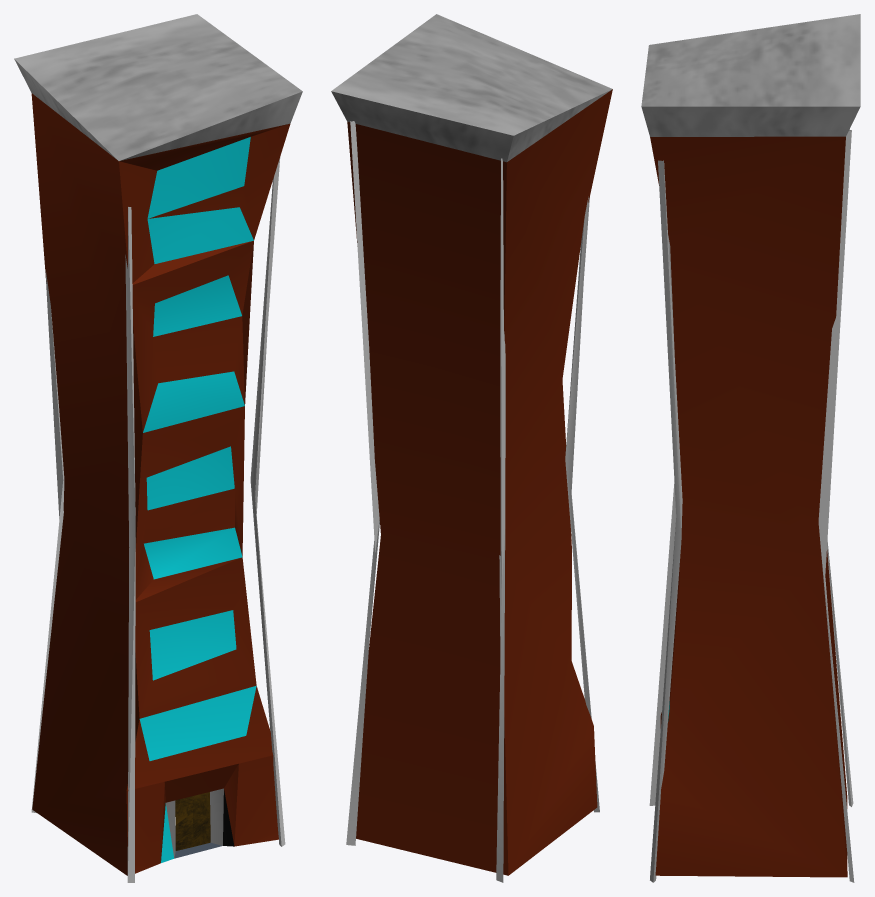
File: PredioAltoFino-VermelhoEscuroLOD2.fbx
3 views of the same model, side by side, from view 1: azimuth 30°, elevation 25°; view 2: azimuth 150°, elevation 25°; view 3: azimuth 270°, elevation 25° (orthographic). The views are drawn at different scales.
Visible parts, largest first — view 1: PredioAltoFinoLOD2; view 2: PredioAltoFinoLOD2; view 3: PredioAltoFinoLOD2.
Boxes of the visible parts, x1,y1,x2,y2 form: PredioAltoFinoLOD2: [14, 14, 302, 882]; PredioAltoFinoLOD2: [331, 14, 612, 882]; PredioAltoFinoLOD2: [641, 14, 860, 882].
Bounding box in the file's own units: 635 × 2499 × 635.
